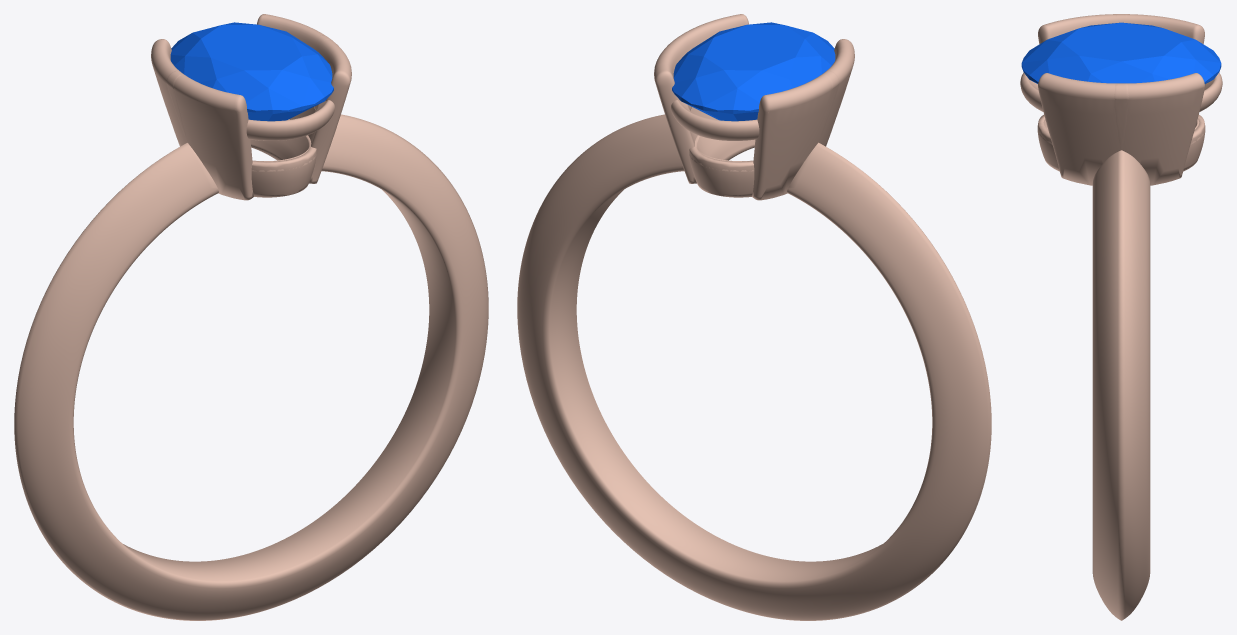
File: bluesapphire-oval-rosegold-halfmoonbezel-knifeedge-nosidestones.glb
3 renders of one model, left to right at view 1: azimuth 30°, elevation 25°; view 2: azimuth 150°, elevation 25°; view 3: azimuth 270°, elevation 25°, orthographic. The views are drawn at different scales.
Visible parts, largest first — view 1: metal, stone; view 2: metal, stone; view 3: metal, stone.
Part boxes in pixels (box(x1,y1,x2,y2)): metal: box(14, 14, 488, 620); stone: box(170, 22, 333, 121); metal: box(517, 14, 991, 620); stone: box(672, 22, 835, 121); metal: box(1020, 14, 1222, 620); stone: box(1021, 22, 1221, 83).
Bounding box in the file's own units: 20.5 × 23.4 × 7.75.
